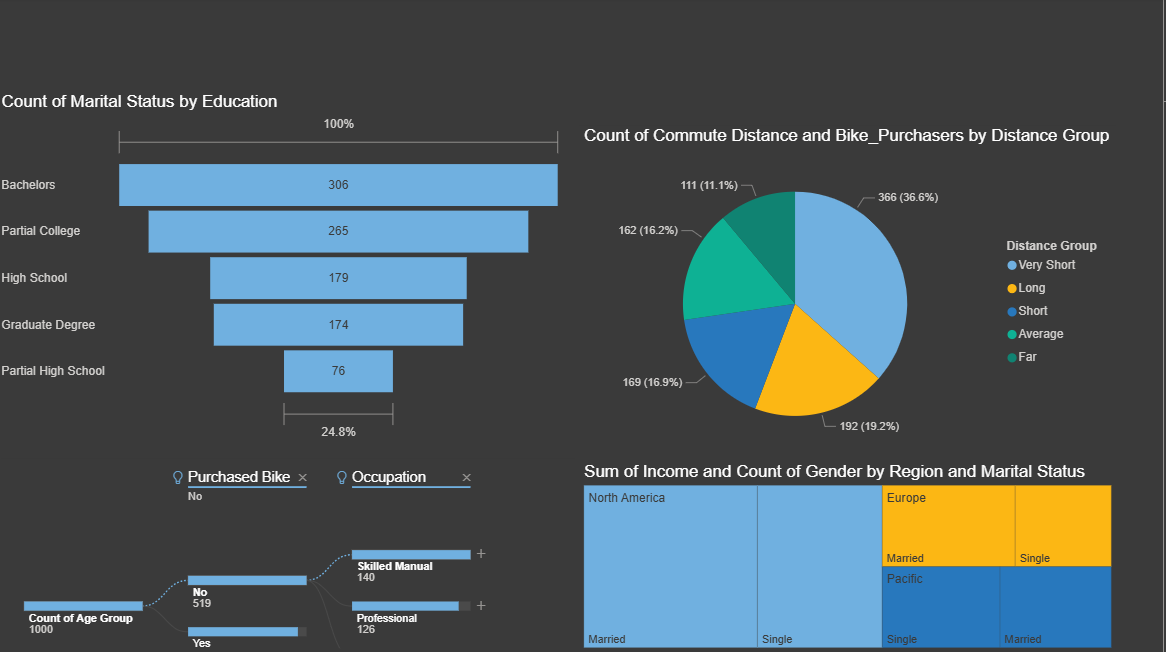

Layout of this report page (visuals, bound fields, positions):
{"tool":"powerbi","page":{"name":"Page 2","canvas":[1280,720],"ordinal":1},"visuals":[{"type":"pieChart","fields":{"Y":["CountNonNull(bike_buyers.Commute Distance)"],"Category":["bike_buyers.Distance Group"]},"box":[639.5,141.3,588.7,370.5],"z":0},{"type":"funnel","fields":{"Category":["bike_buyers.Education"],"Y":["CountNonNull(bike_buyers.Marital Status)"]},"box":[0,104.3,625.7,388.3],"z":1000},{"type":"decompositionTreeVisual","fields":{"Analyze":["CountNonNull(bike_buyers.Age Group)"],"ExplainBy":["bike_buyers.Purchased Bike","bike_buyers.Occupation","bike_buyers.Income"]},"box":[0,502.2,639.5,218.2],"z":2000},{"type":"treemap","fields":{"Group":["bike_buyers.Region"],"Details":["bike_buyers.Marital Status"],"Values":["Sum(bike_buyers.Income)"]},"box":[639,511,589,209],"z":3000}]}

Visuals, with their boxes in screenshot pixels (x1, y1, x2, y2), scaled from the page's 1280x720 canvas onto the 1166x652 screenshot:
pieChart - CountNonNull(bike_buyers.Commute Distance) x bike_buyers.Distance Group: left=583, top=128, right=1119, bottom=463
funnel - bike_buyers.Education x CountNonNull(bike_buyers.Marital Status): left=0, top=94, right=570, bottom=446
decompositionTreeVisual - CountNonNull(bike_buyers.Age Group) x bike_buyers.Purchased Bike: left=0, top=455, right=583, bottom=651
treemap - bike_buyers.Region x bike_buyers.Marital Status: left=582, top=463, right=1119, bottom=651
